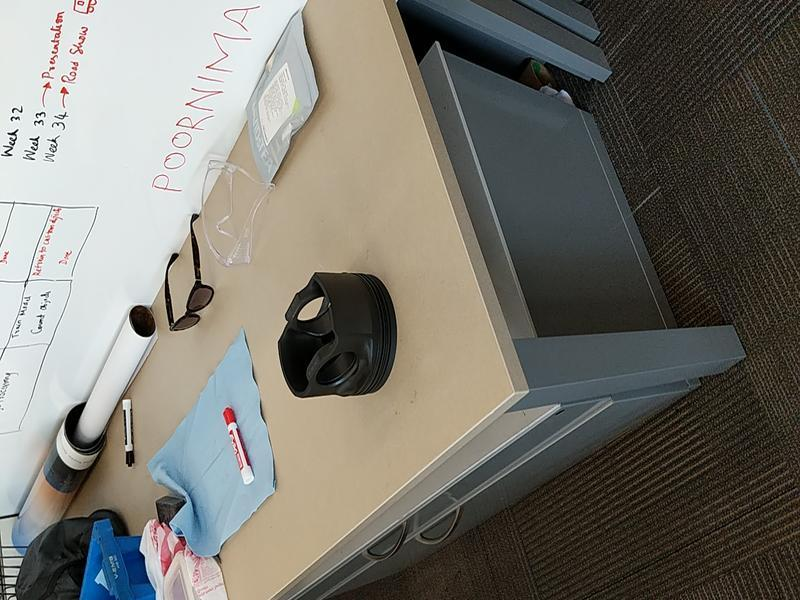piston: (274, 270, 400, 403)
